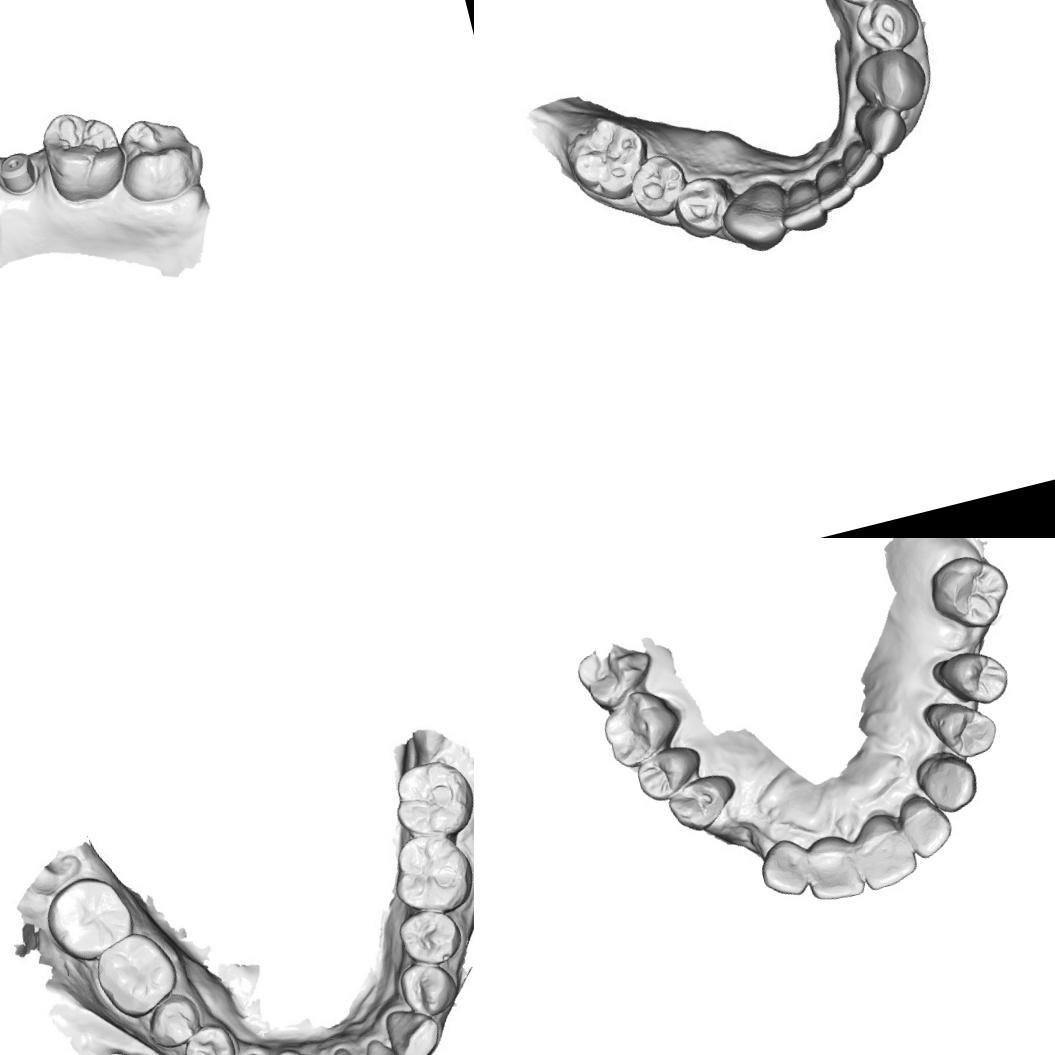canine: (714, 176, 796, 260), (848, 41, 932, 120), (911, 744, 983, 819), (386, 1004, 444, 1055)
implant: (0, 146, 43, 199)
incisor: (848, 806, 921, 894), (797, 829, 867, 907), (893, 789, 957, 863), (850, 95, 912, 160), (753, 834, 812, 902), (772, 174, 830, 237), (838, 136, 888, 190), (810, 158, 857, 212), (353, 1034, 408, 1055), (317, 1040, 367, 1055)
molar: (31, 98, 135, 210), (107, 104, 210, 210), (558, 106, 658, 209), (36, 870, 138, 970), (84, 924, 184, 1026), (383, 750, 474, 848), (382, 824, 474, 919), (922, 546, 1016, 638), (595, 682, 687, 771), (572, 634, 661, 714)
premolar: (920, 688, 1002, 766), (928, 642, 1013, 715), (662, 768, 740, 836), (623, 148, 694, 222), (392, 902, 466, 971), (668, 170, 736, 244), (631, 740, 708, 805), (393, 953, 463, 1023), (849, 0, 923, 58), (141, 990, 205, 1053), (177, 1020, 240, 1055)
